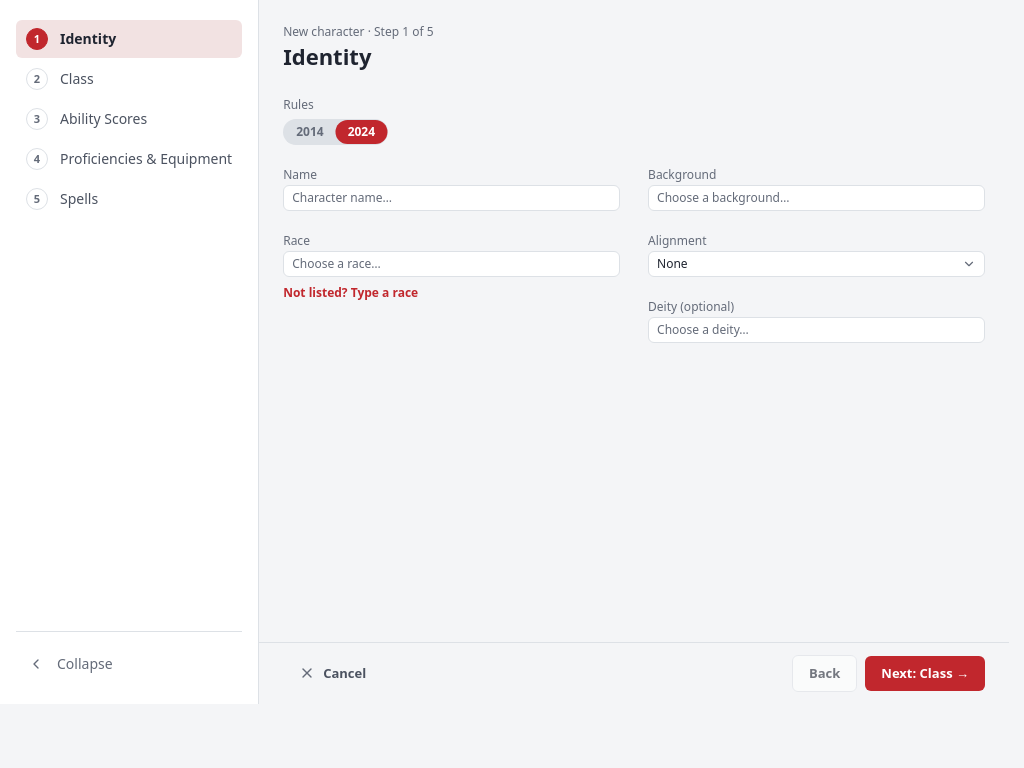
Test case: CreationFlow › opens on the first step and walks forward and back, the rail marking where you are
Expected: the heading "Identity" is shown, [283,41,372,71]
Expected: the text "New character · Step 1 of 5" is shown, [283,23,434,40]
Click the button "Next: Class →" at (925, 673), box [865,656,985,691]
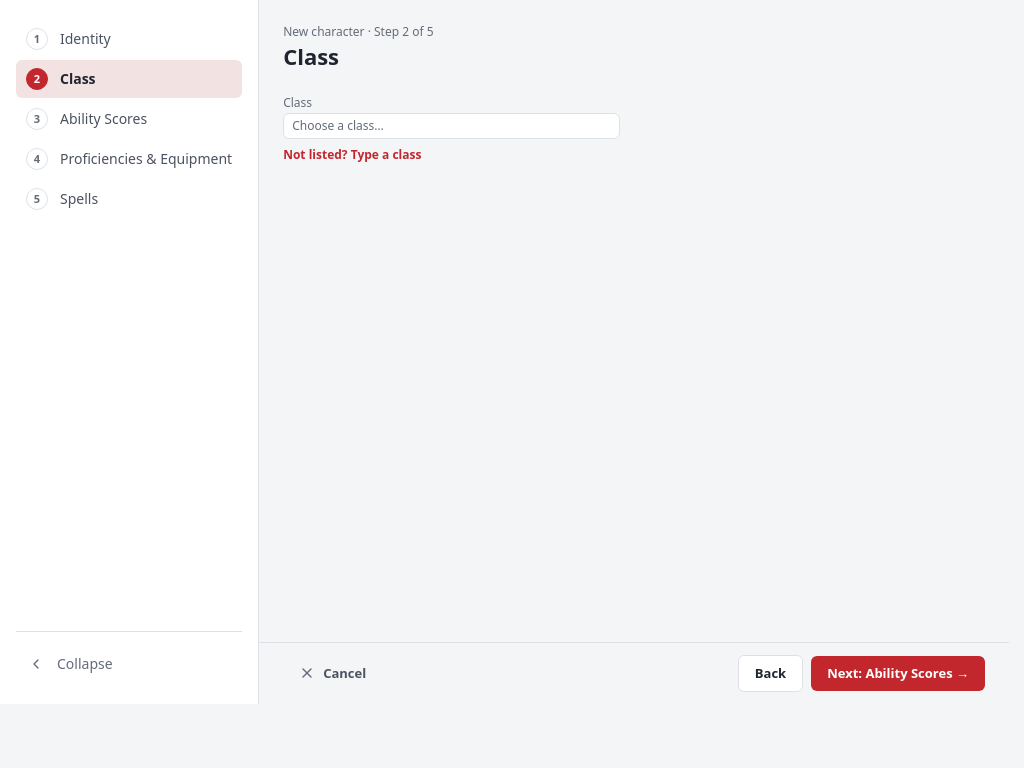
Expected: the heading "Class" is shown, [283,41,339,71]
Click the button "Back" at (770, 673), box [738,654,803,692]
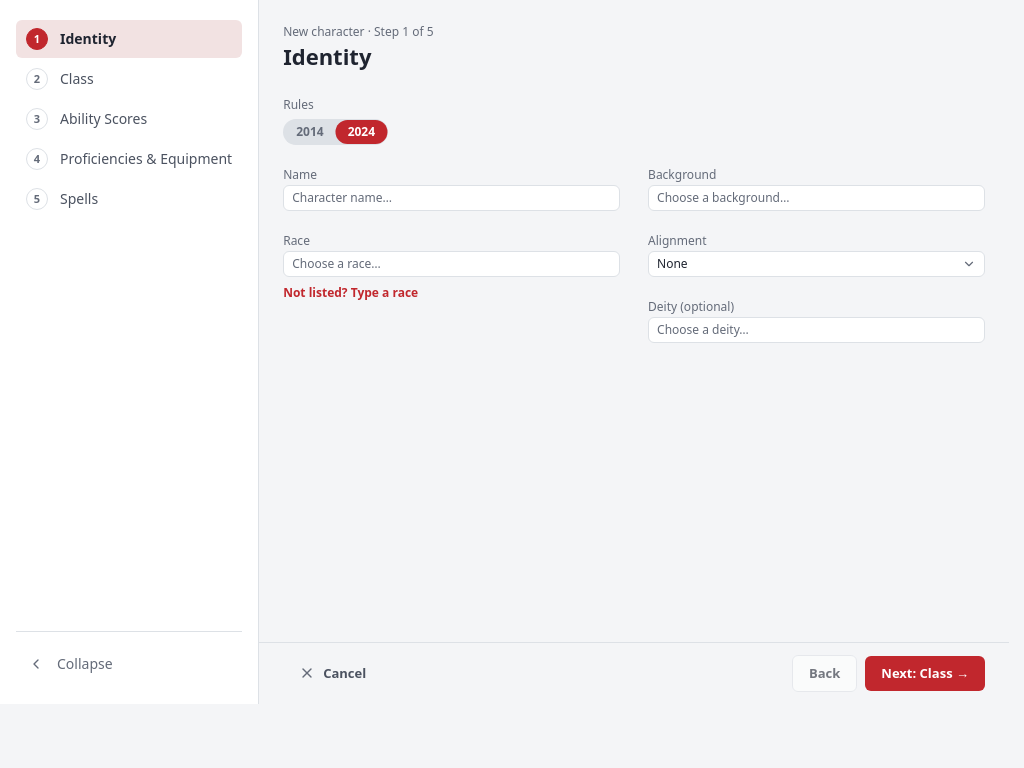
Expected: the heading "Identity" is shown, [283,41,372,71]
